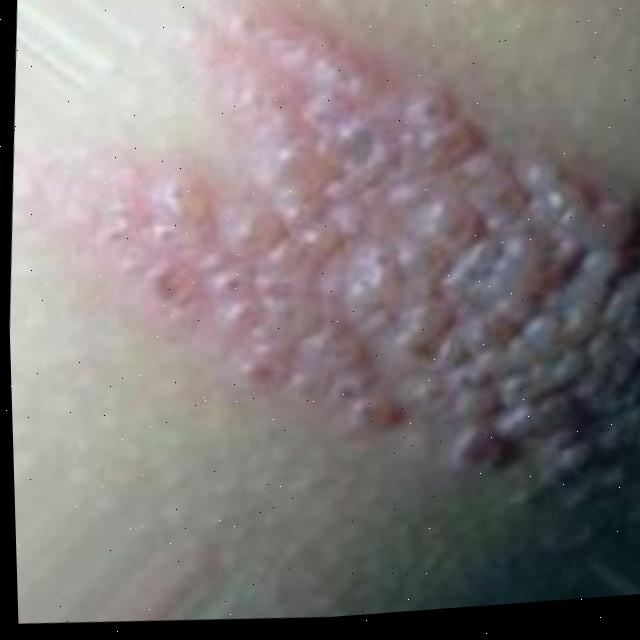Shingles: (18, 0, 640, 552)
